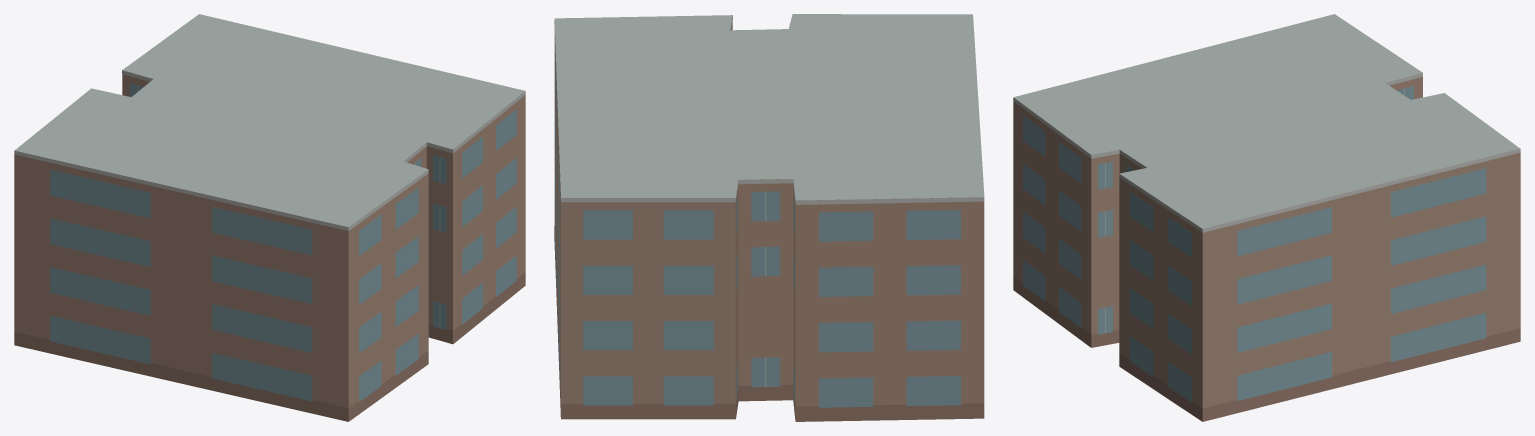
Rendered from survey-upis-32918725.glb.
The picture shows the model from 3 angles, left to right: view 1: azimuth 30°, elevation 25°; view 2: azimuth 150°, elevation 25°; view 3: azimuth 270°, elevation 25°; orthographic projection. The views are drawn at different scales.
Visible parts, largest first — view 1: survey-upis-32918725.tmp; view 2: survey-upis-32918725.tmp; view 3: survey-upis-32918725.tmp.
Part boxes in pixels (x1=…): survey-upis-32918725.tmp: x1=14, y1=14, x2=525, y2=421; survey-upis-32918725.tmp: x1=554, y1=14, x2=984, y2=421; survey-upis-32918725.tmp: x1=1013, y1=14, x2=1520, y2=421.
Bounding box in the file's own units: 29.41 × 12.3 × 29.31.
